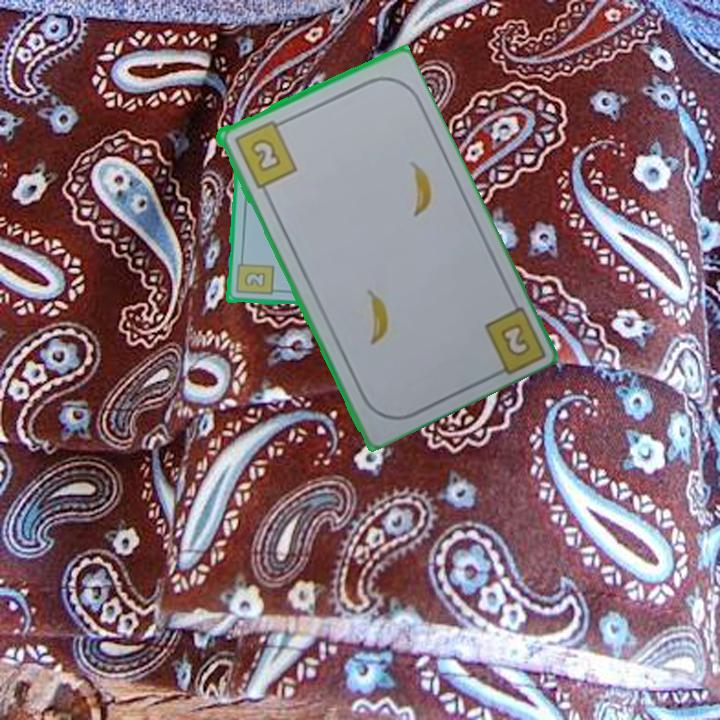2b: (230, 116, 300, 191), (232, 254, 275, 298), (496, 319, 533, 359)
